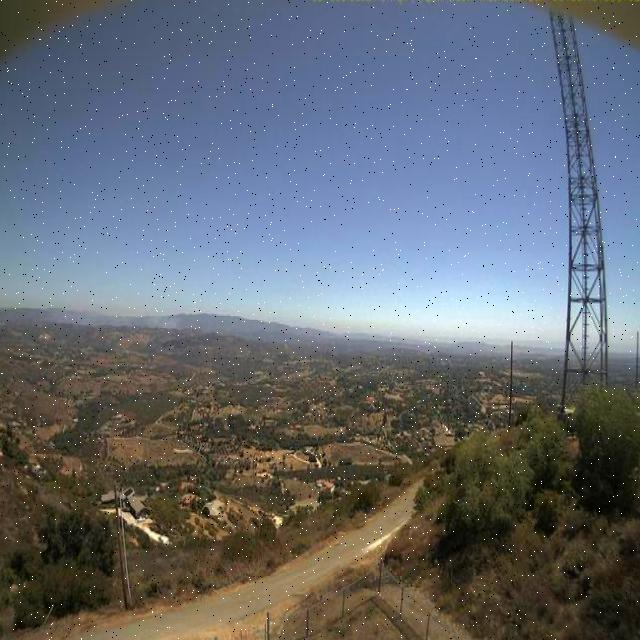smoke: (85, 305, 180, 330)
